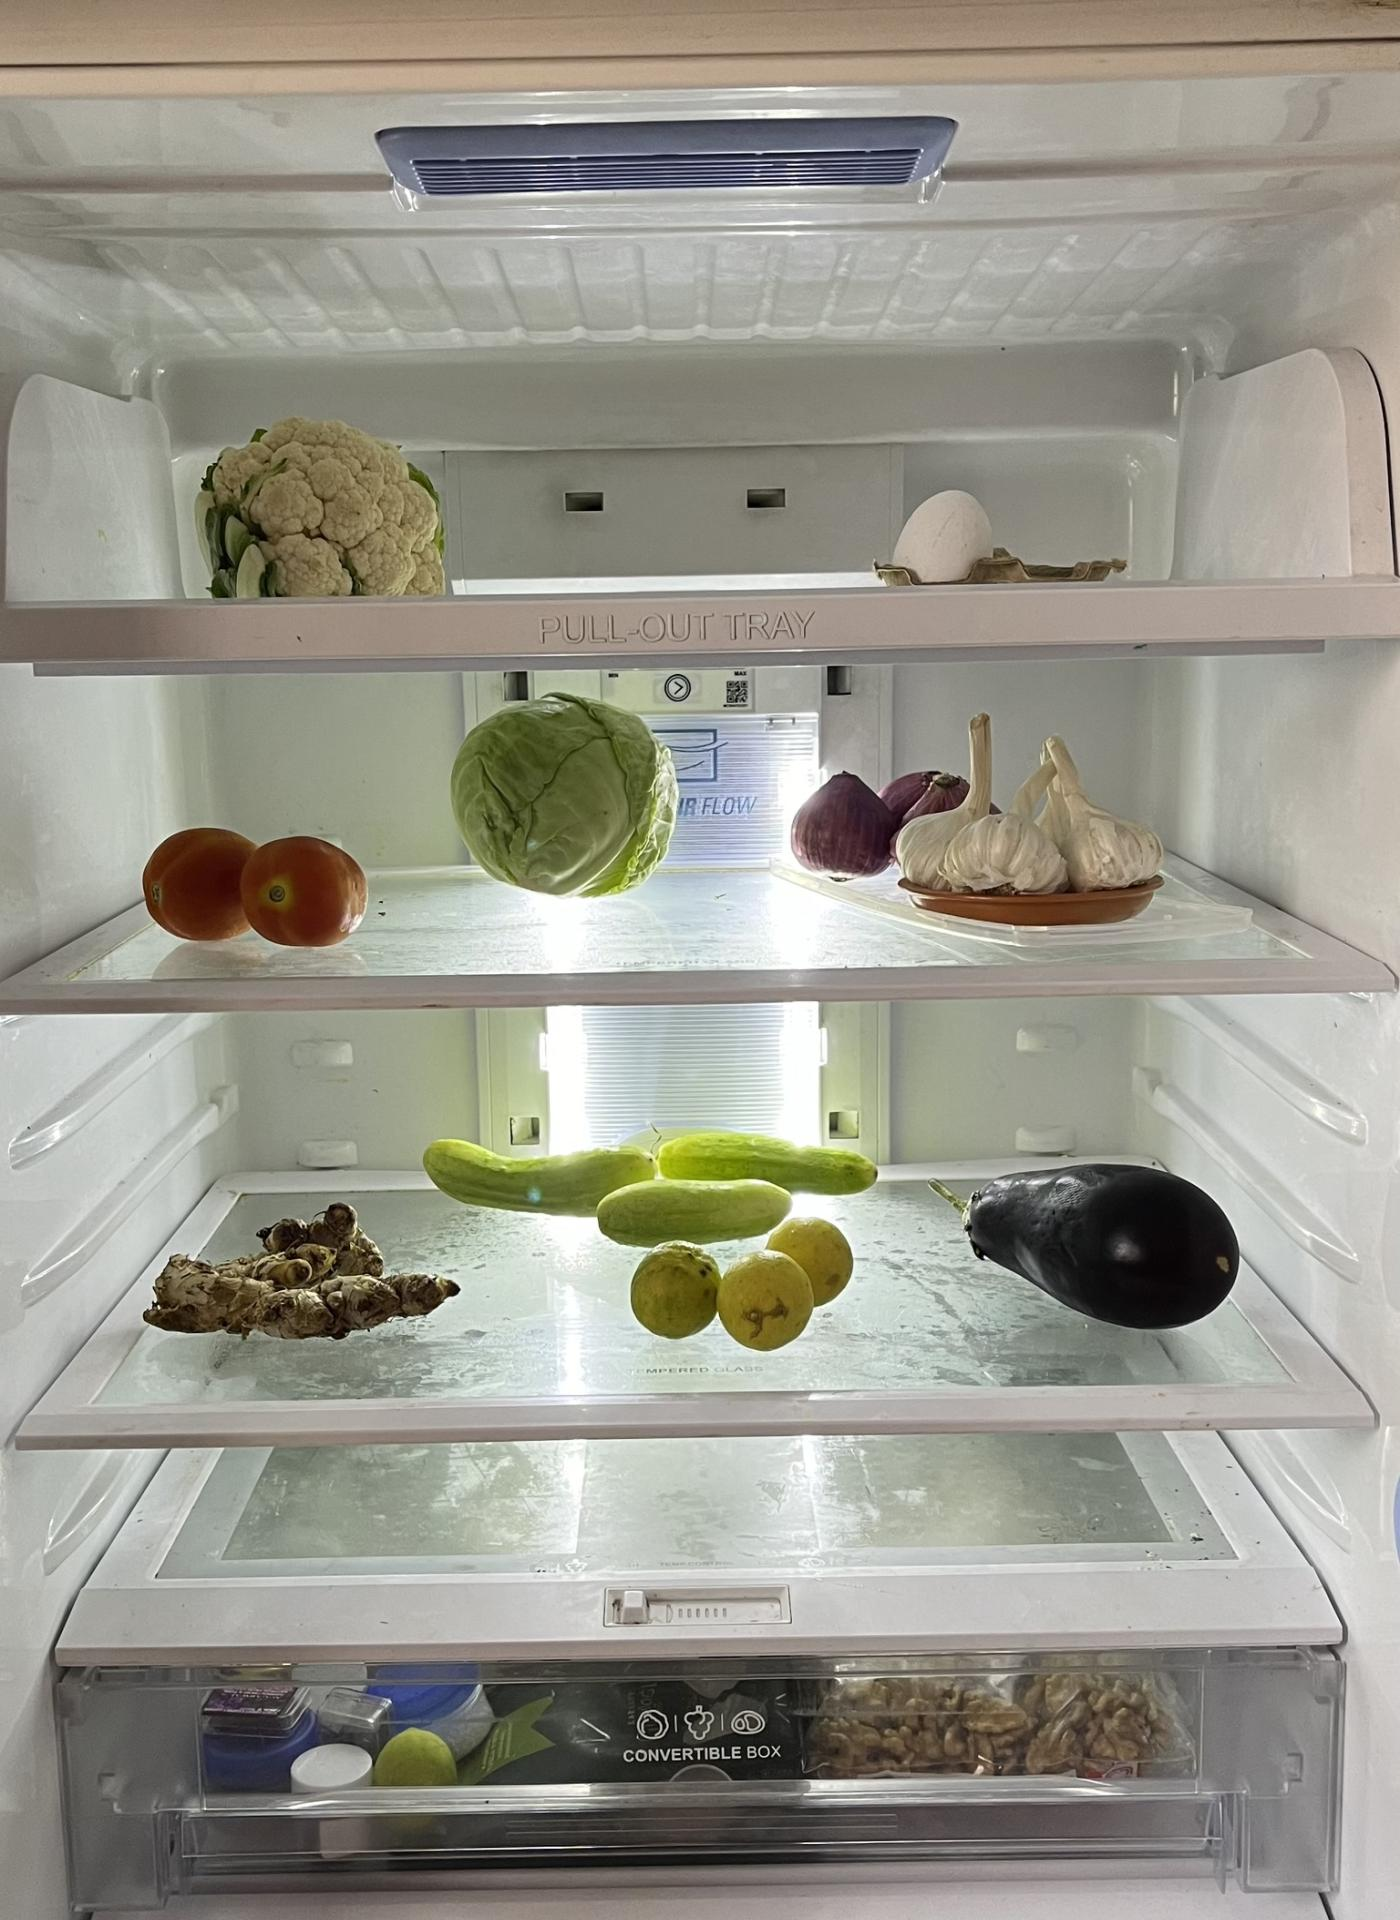cabbage: (443, 687, 680, 887)
cauliflower: (203, 416, 437, 610)
cucumber: (923, 1163, 1248, 1334), (416, 1137, 674, 1215), (665, 1137, 890, 1197), (602, 1178, 811, 1237)
egg: (890, 481, 1000, 581)
garlic: (893, 716, 1176, 893)
ginger: (152, 1197, 462, 1334)
lemon: (626, 1222, 866, 1357)
onion: (778, 766, 1015, 878)
tomato: (137, 827, 374, 950)
